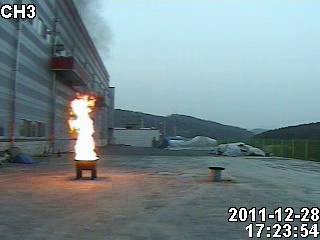fire: (66, 90, 97, 160)
